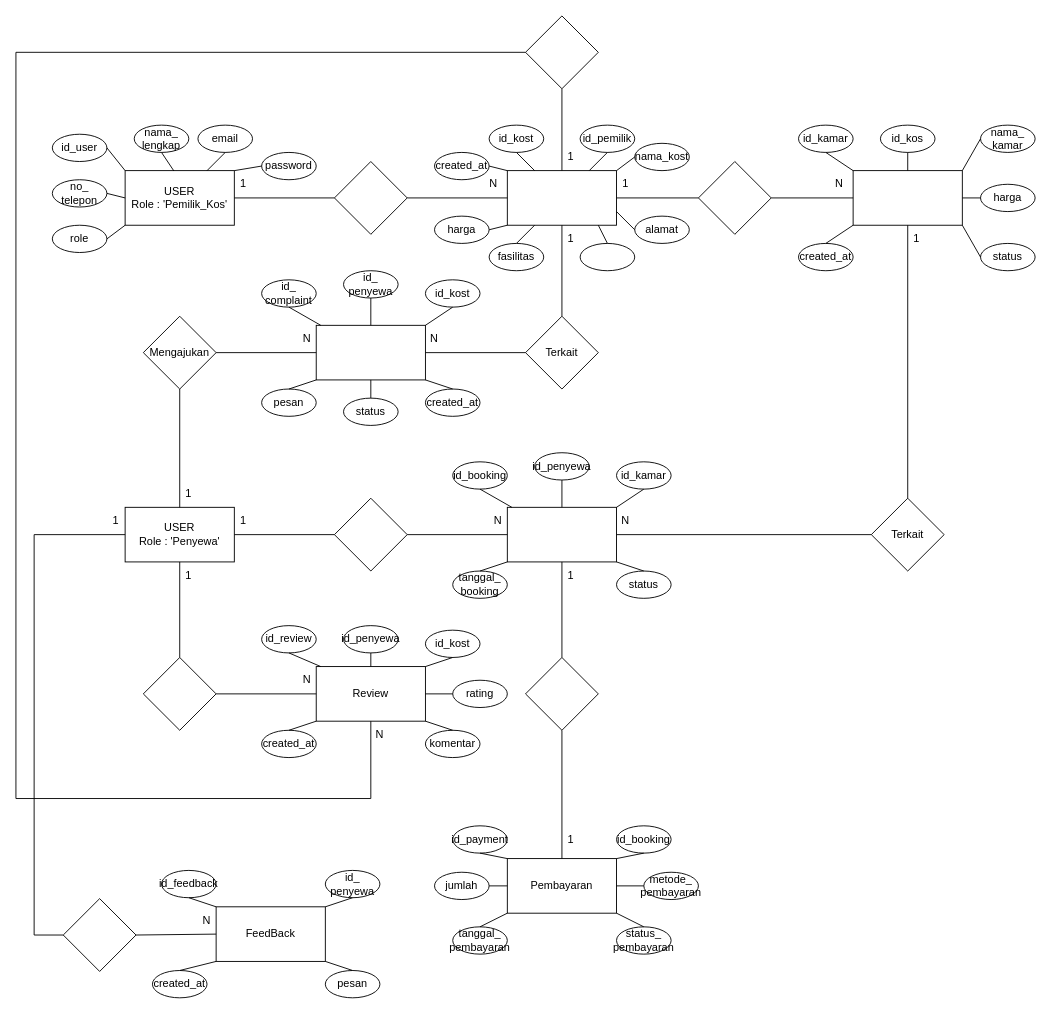
Some shapes in this 1051 by 1014 pixel diagram are drawn without their labels. Here are the shapes that lost their labels. From the top down, the centre of each, then its label:
At [561,52]: "Diulas".
At [370,197]: "Mengelola".
At [561,197]: "Kos".
At [734,197]: "Memiliki".
At [907,197]: "Kamar".
At [607,257]: "deskripsi".
At [370,352]: "Complaint".
At [370,534]: "Membuat".
At [561,534]: "Booking".
At [179,693]: "Memberi".
At [561,693]: "Dibayar".
At [99,934]: "Memberi Saran".
